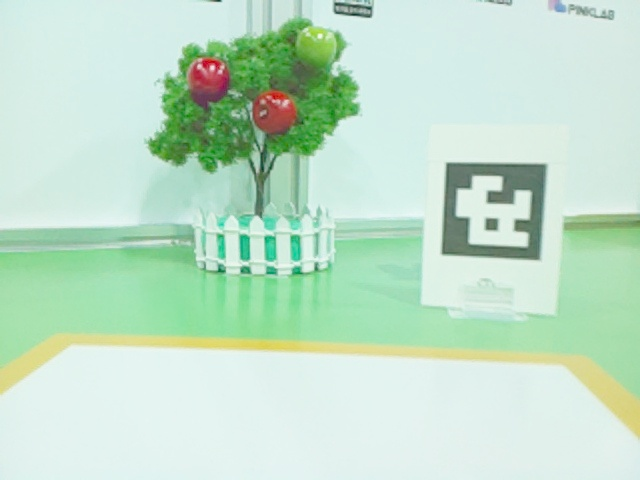apple: (253, 90, 296, 134), (189, 58, 230, 98)
